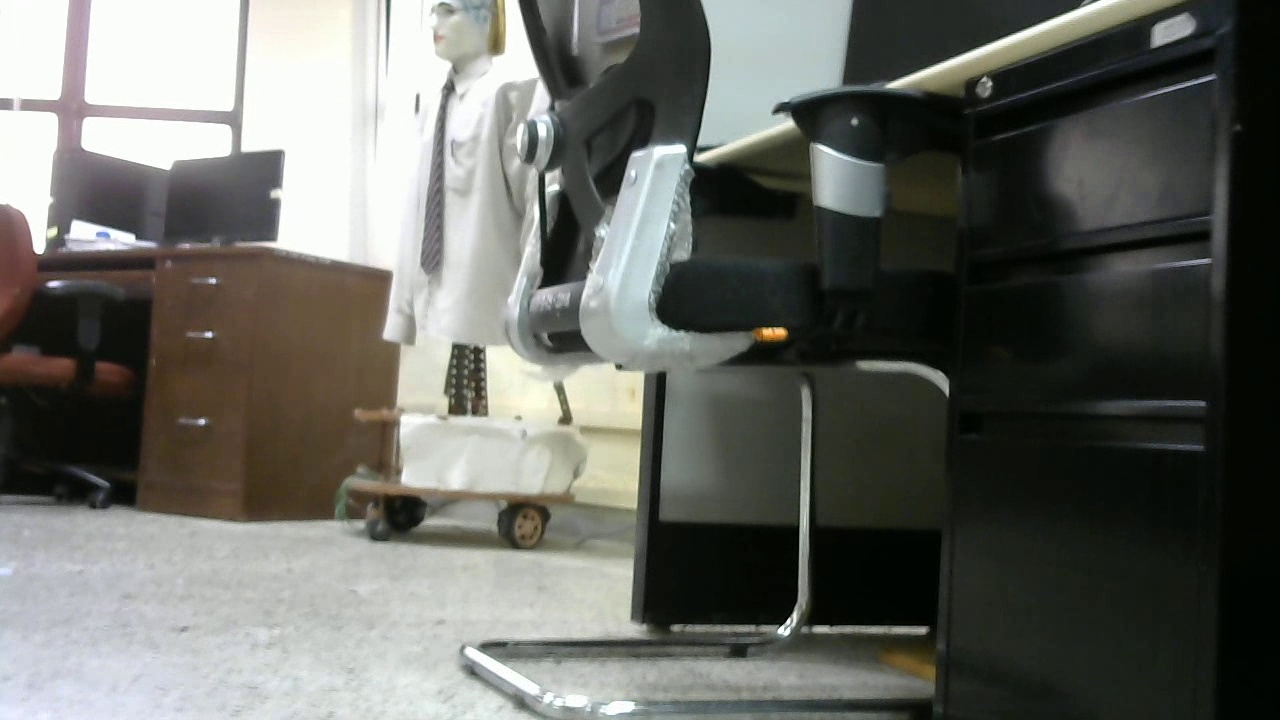chair: (455, 2, 964, 720), (1, 205, 153, 505)
